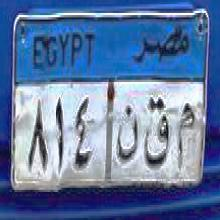1: (54, 97, 65, 172)
4: (72, 92, 94, 172)
8: (30, 95, 46, 177)
meem: (172, 94, 197, 168)
noon: (118, 104, 140, 160)
qaaf: (143, 96, 169, 169)
